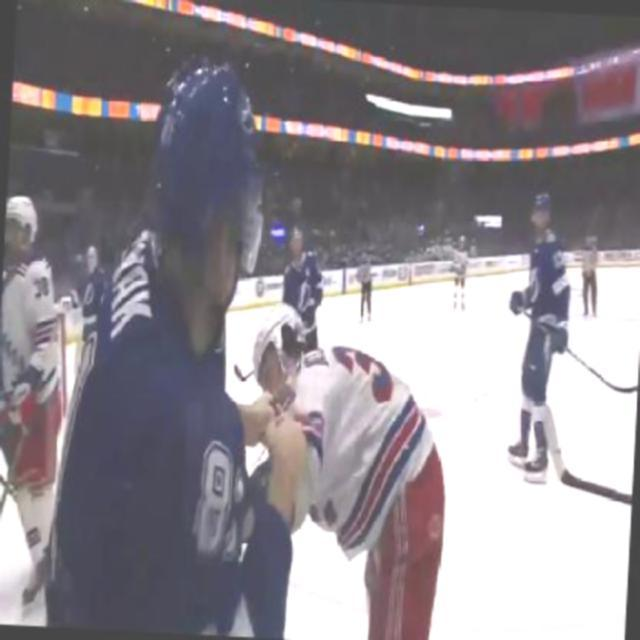fight: (48, 52, 470, 638)
non-fight: (495, 187, 577, 493)
